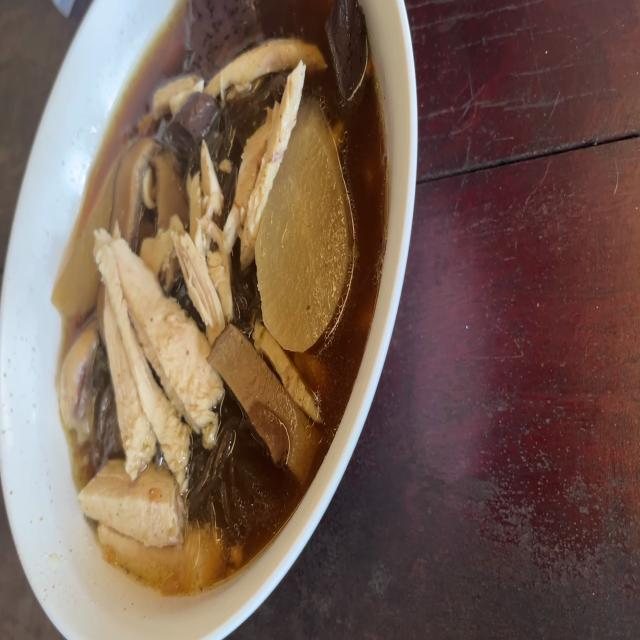boiled_chicken_blood_jelly: (186, 0, 258, 71), (334, 0, 369, 103), (163, 94, 219, 158)
chicken_shredded: (100, 225, 196, 462), (229, 69, 309, 250), (79, 462, 184, 540), (184, 146, 229, 318), (202, 34, 315, 98), (59, 320, 99, 440), (147, 66, 205, 114)
daikon_radish: (255, 135, 347, 332), (58, 172, 112, 318)
noodle: (68, 0, 379, 591)
